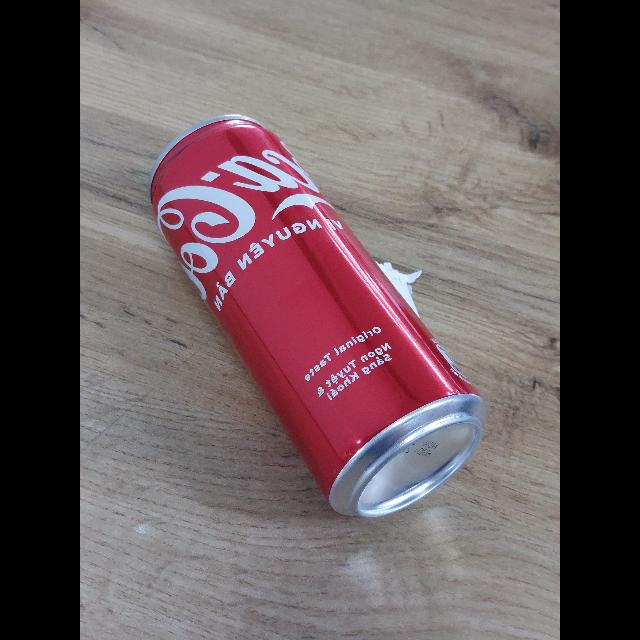coca_cola: (148, 115, 487, 521)
